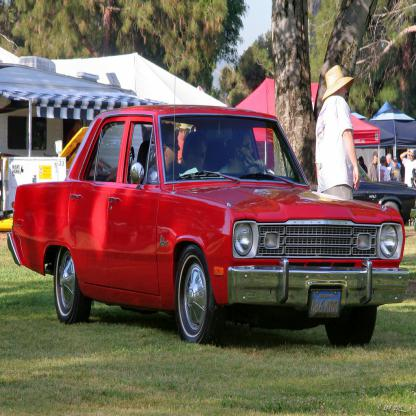Car: (6, 69, 410, 344), (352, 161, 416, 218)
